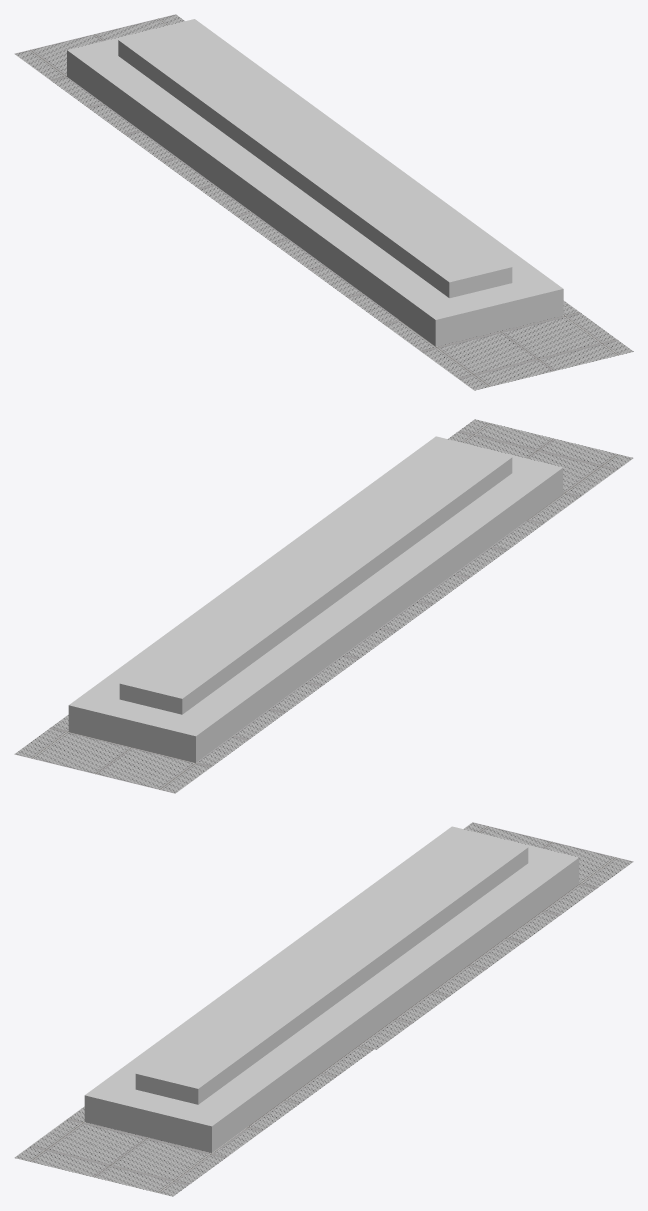
The model's file is Wall10Ceilingg.fbx.
The picture shows the model from 3 angles, top to bottom: view 1: azimuth 30°, elevation 25°; view 2: azimuth 150°, elevation 25°; view 3: azimuth 330°, elevation 25°; orthographic projection.
Visible parts, largest first — view 1: MiniRoomCeiling; view 2: MiniRoomCeiling; view 3: MiniRoomCeiling.
Part boxes in pixels (bbox=[...]): MiniRoomCeiling: bbox=[14, 14, 633, 390]; MiniRoomCeiling: bbox=[14, 419, 633, 793]; MiniRoomCeiling: bbox=[14, 822, 633, 1196].
Size of the model in its own units: 807 by 203 by 3976.
